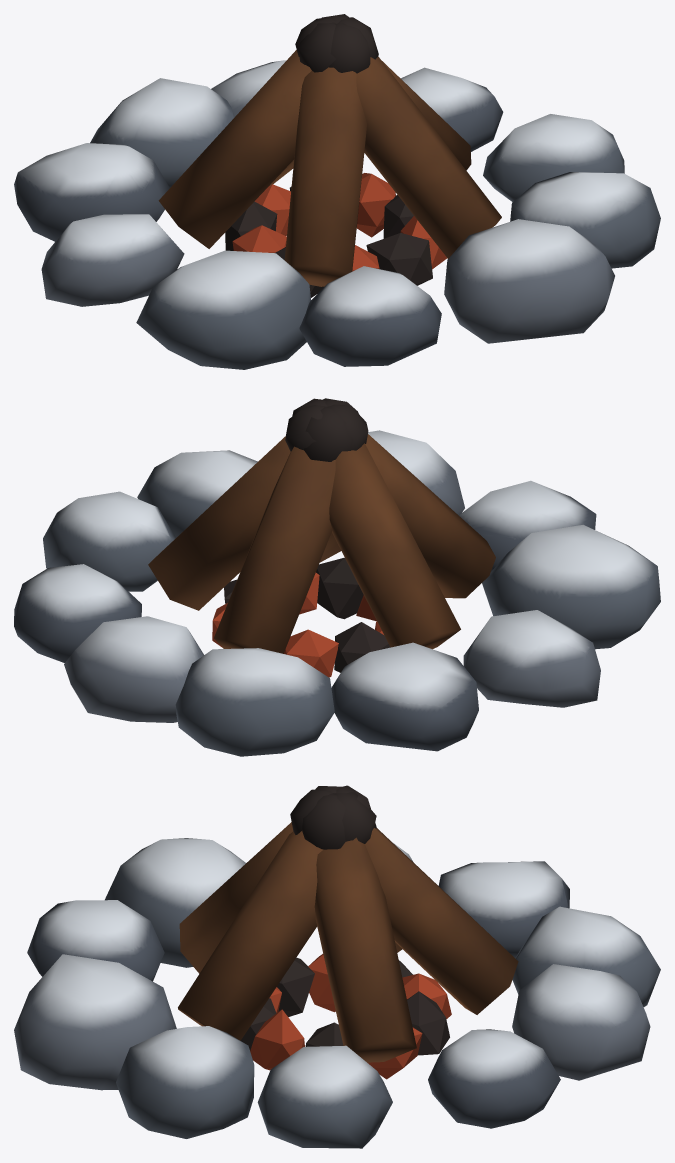
Rendered from campfire.glb.
3 renders of one model, top to bottom at view 1: azimuth 30°, elevation 25°; view 2: azimuth 150°, elevation 25°; view 3: azimuth 270°, elevation 25°, orthographic. The views are drawn at different scales.
Visible parts, largest first — view 1: charend; view 2: charend; view 3: charend.
Part boxes in pixels (left/top/right/bottom): charend: left=14, top=14, right=660, bottom=369; charend: left=14, top=398, right=660, bottom=756; charend: left=14, top=785, right=660, bottom=1148.
Size of the model in its own units: 1.34 by 0.5776 by 1.31.
1 material, 1 textured.
